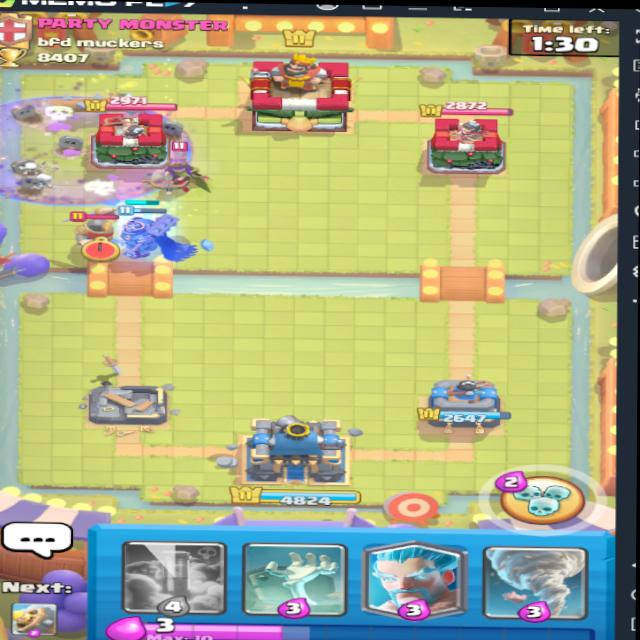archer-queen: (142, 149, 214, 198)
knight: (57, 208, 130, 255)
